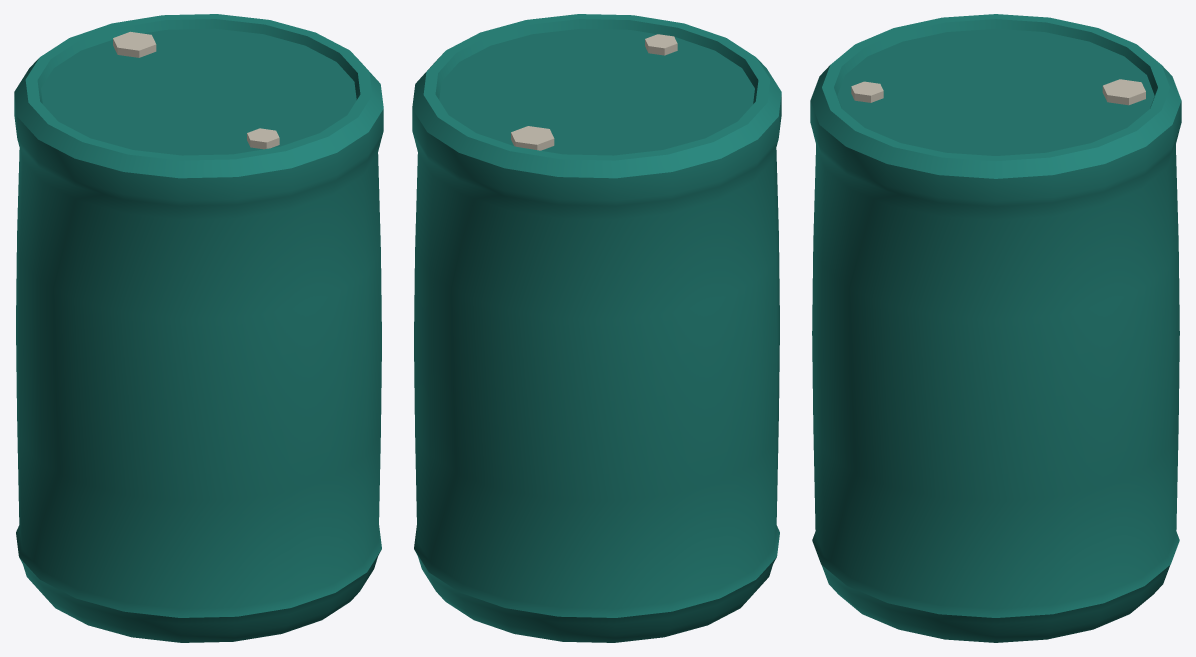
The model's file is plastic_barrel.glb.
3 views of the same model, side by side, from view 1: azimuth 30°, elevation 25°; view 2: azimuth 150°, elevation 25°; view 3: azimuth 270°, elevation 25° (orthographic).
Visible parts, largest first — view 1: plastic_barrel; view 2: plastic_barrel; view 3: plastic_barrel.
Boxes of the visible parts, x1,y1,x2,y2 form: plastic_barrel: (14,14,383,642); plastic_barrel: (412,14,781,642); plastic_barrel: (810,14,1181,642).
Bounding box in the file's own units: 0.65 × 0.95 × 0.65.
